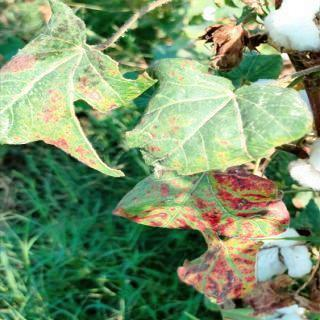blight: (112, 160, 294, 312), (0, 39, 157, 211)
